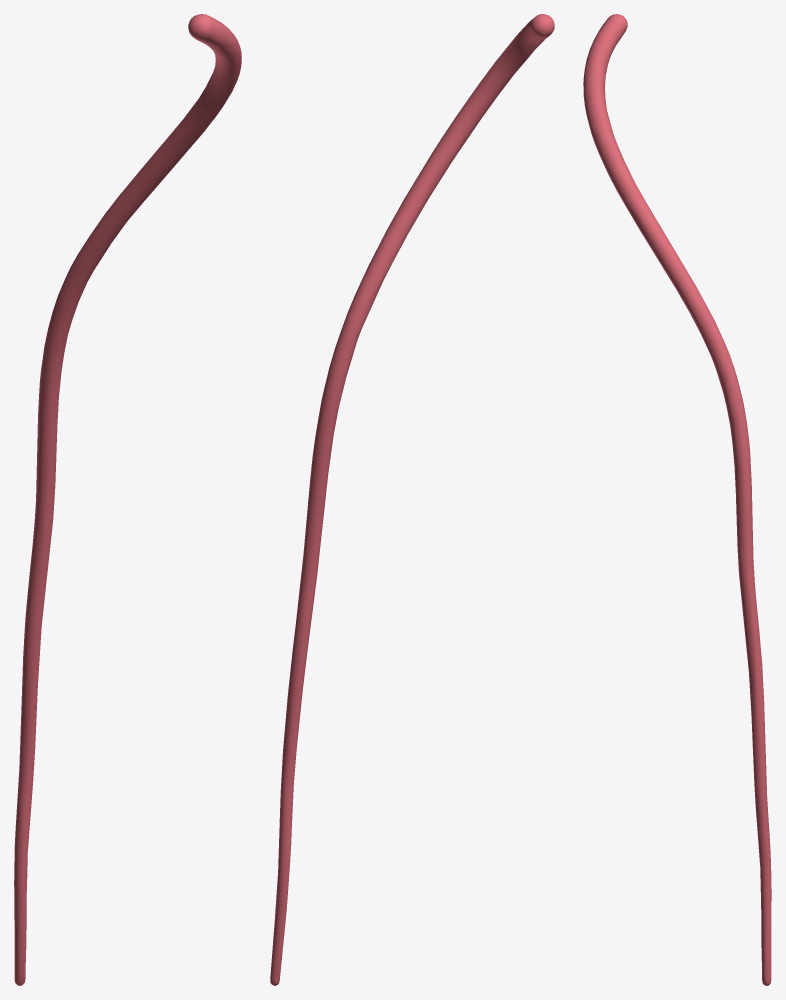
Rendered from fma50846_fj5155.glb.
3 renders of one model, left to right at view 1: azimuth 90°, elevation 25°; view 2: azimuth 150°, elevation 25°; view 3: azimuth 270°, elevation 25°, orthographic. The views are drawn at different scales.
Visible parts, largest first — view 1: FMA50846_FJ5155; view 2: FMA50846_FJ5155; view 3: FMA50846_FJ5155.
Boxes of the visible parts, <box> form: FMA50846_FJ5155: <box>14,14,241,985</box>; FMA50846_FJ5155: <box>270,14,554,985</box>; FMA50846_FJ5155: <box>583,14,771,985</box>.
Bounding box in the file's own units: 0.0133 × 0.0604 × 0.0116.
